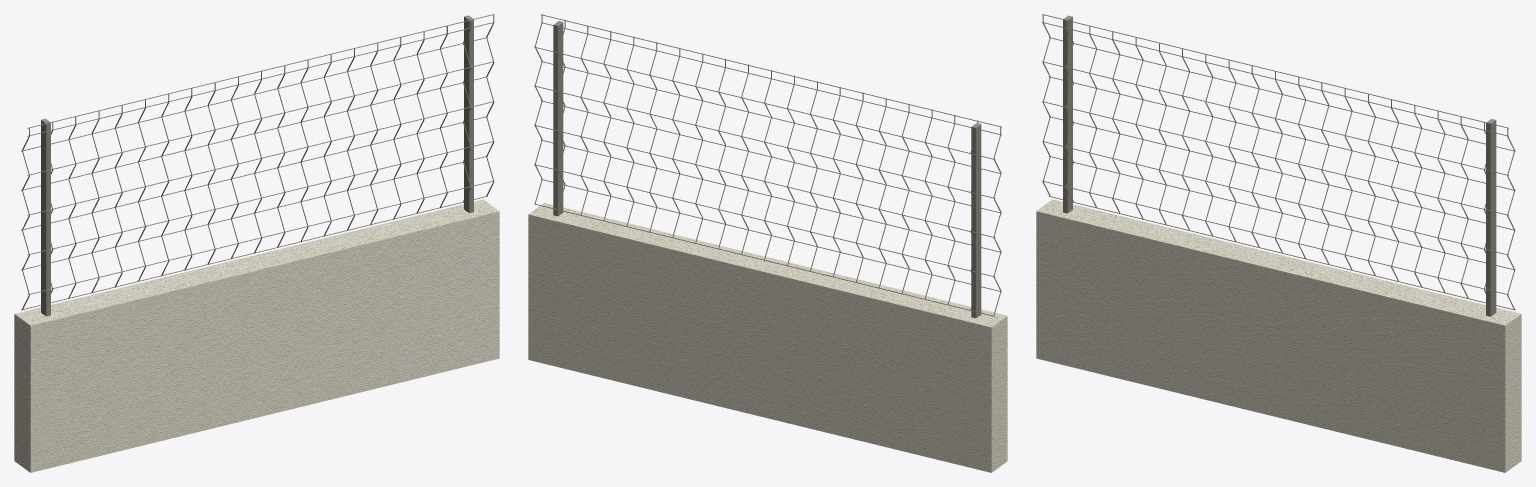
File: H800-CB_soutiencollar.fbx
3 views of the same model, side by side, from view 1: azimuth 30°, elevation 25°; view 2: azimuth 150°, elevation 25°; view 3: azimuth 330°, elevation 25° (orthographic).
Visible parts, largest first — view 1: H800-CB_stain; view 2: H800-CB_stain; view 3: H800-CB_stain.
Boxes of the visible parts, x1=… form: H800-CB_stain: x1=14, y1=14, x2=499, y2=472; H800-CB_stain: x1=528, y1=14, x2=1007, y2=472; H800-CB_stain: x1=1036, y1=14, x2=1521, y2=472.
Bounding box in the file's own units: 200 × 139 × 12.
3 materials, 3 textured.
